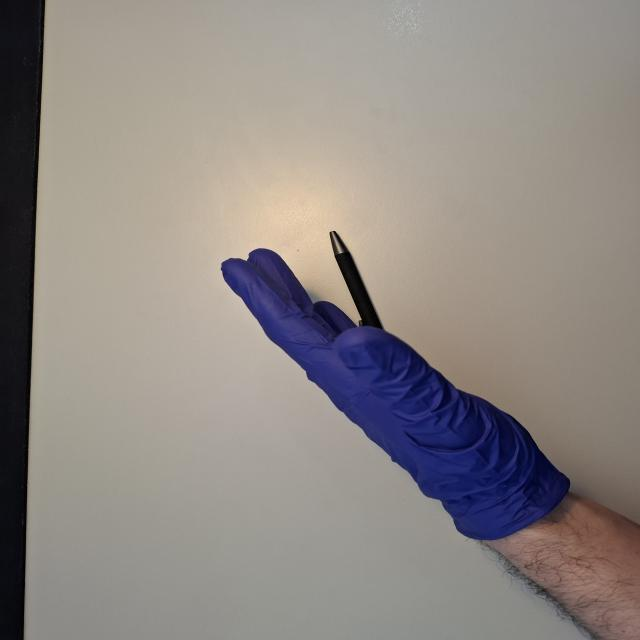glove_on: (218, 246, 574, 543)
